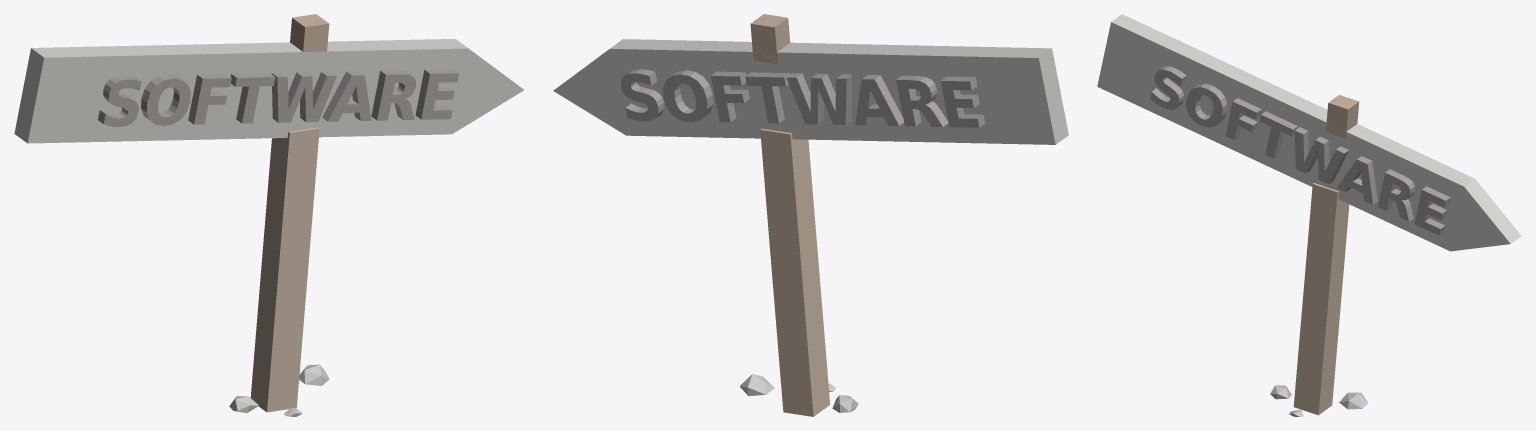
Rendered from signboard_software_refined.glb.
3 views of the same model, side by side, from view 1: azimuth 30°, elevation 25°; view 2: azimuth 150°, elevation 25°; view 3: azimuth 330°, elevation 25° (orthographic). The views are drawn at different scales.
Parts seen in each view (by area): view 1: g0, g8, g3, g1, g4, g6; view 2: g0, g9, g3, g1, g4, g6; view 3: g0, g8, g3, g1, g4.
Boxes of the visible parts, x1=… form: g0: x1=14, y1=39, x2=468, y2=143; g8: x1=98, y1=69, x2=458, y2=126; g3: x1=250, y1=127, x2=319, y2=412; g1: x1=452, y1=49, x2=523, y2=133; g4: x1=290, y1=14, x2=329, y2=56; g6: x1=299, y1=364, x2=329, y2=385; g0: x1=609, y1=39, x2=1068, y2=144; g9: x1=621, y1=69, x2=985, y2=127; g3: x1=760, y1=128, x2=830, y2=416; g1: x1=553, y1=49, x2=626, y2=135; g4: x1=750, y1=14, x2=790, y2=64; g6: x1=739, y1=374, x2=774, y2=396; g0: x1=1097, y1=14, x2=1474, y2=251; g8: x1=1150, y1=66, x2=1450, y2=235; g3: x1=1293, y1=183, x2=1349, y2=415; g1: x1=1450, y1=179, x2=1521, y2=251; g4: x1=1325, y1=95, x2=1359, y2=138.
Bounding box in the file's own units: 1.74 × 1.37 × 0.2181.
